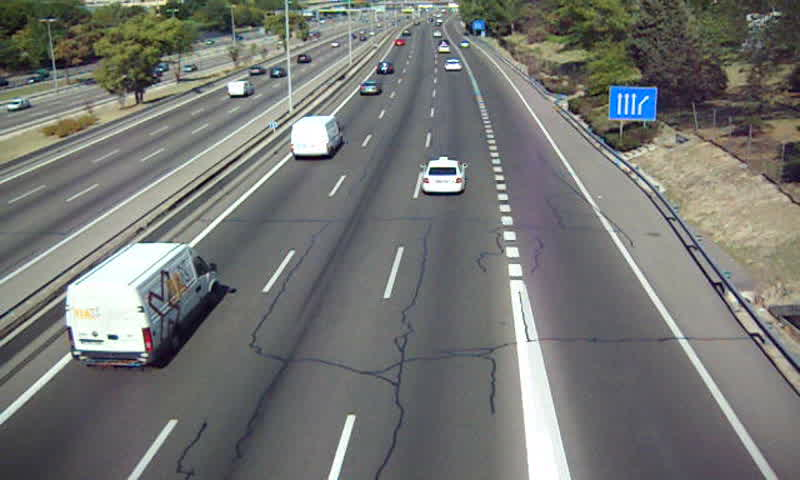car: (421, 159, 467, 194), (358, 81, 381, 98), (443, 58, 463, 73), (376, 60, 394, 76)
van: (66, 244, 217, 372), (290, 116, 343, 158)
